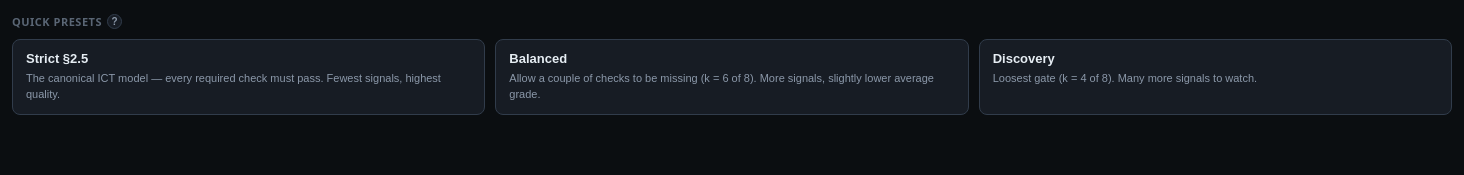
PresetPicker › applies Strict as the all-required default with no warning
Click the button "Strict" at (249, 77), box 12,39 -> 485,115
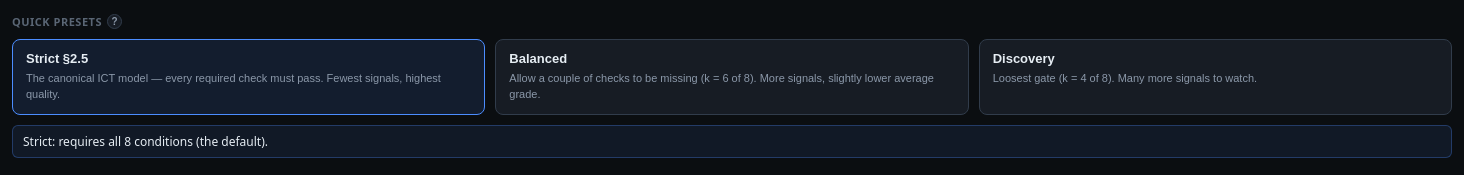
Expected: the message shows "requires all 8 conditions", 23,133 -> 268,150
